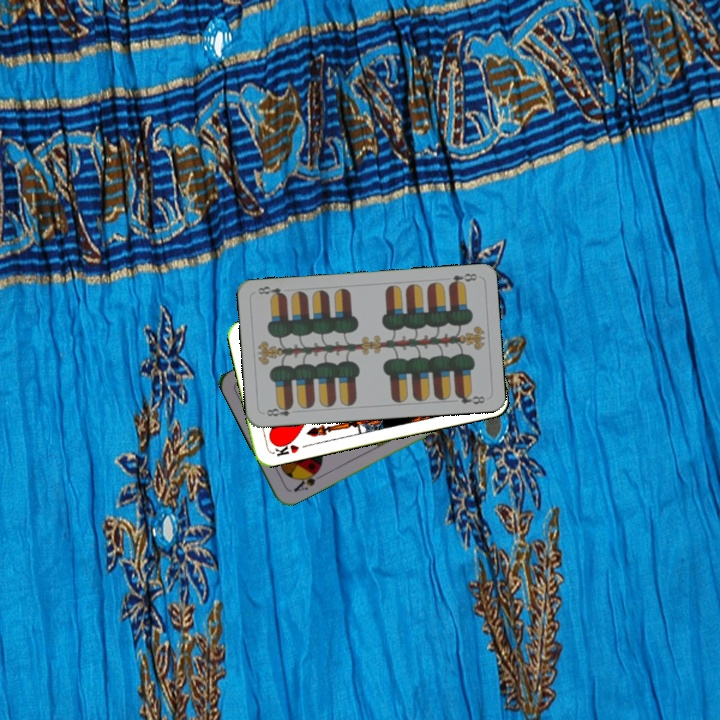E8: (445, 269, 479, 289), (262, 401, 295, 419)
HK: (268, 437, 301, 459)
SA: (289, 465, 326, 495)
